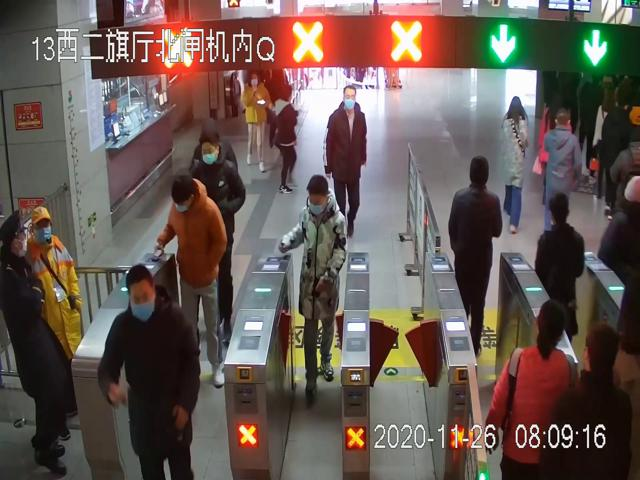person: (1, 211, 71, 474), (159, 169, 228, 390), (280, 172, 344, 404), (20, 207, 83, 441), (450, 157, 504, 356), (324, 84, 367, 236), (500, 96, 529, 237), (241, 72, 271, 173)
